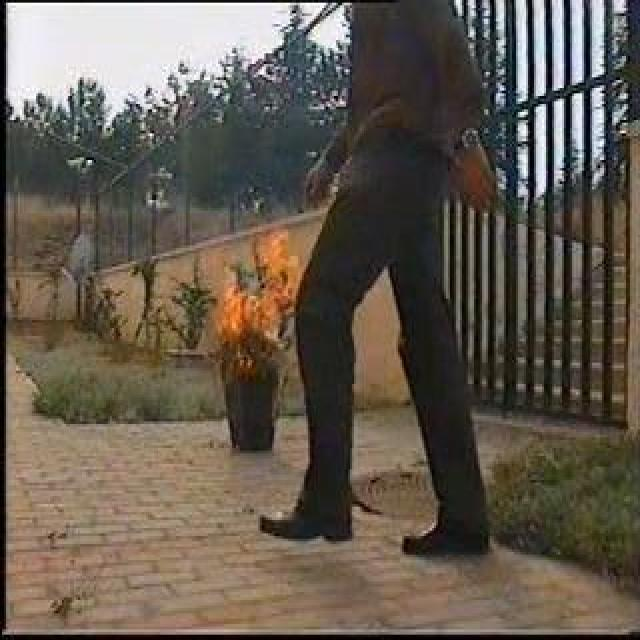Fire: (214, 235, 304, 346)
